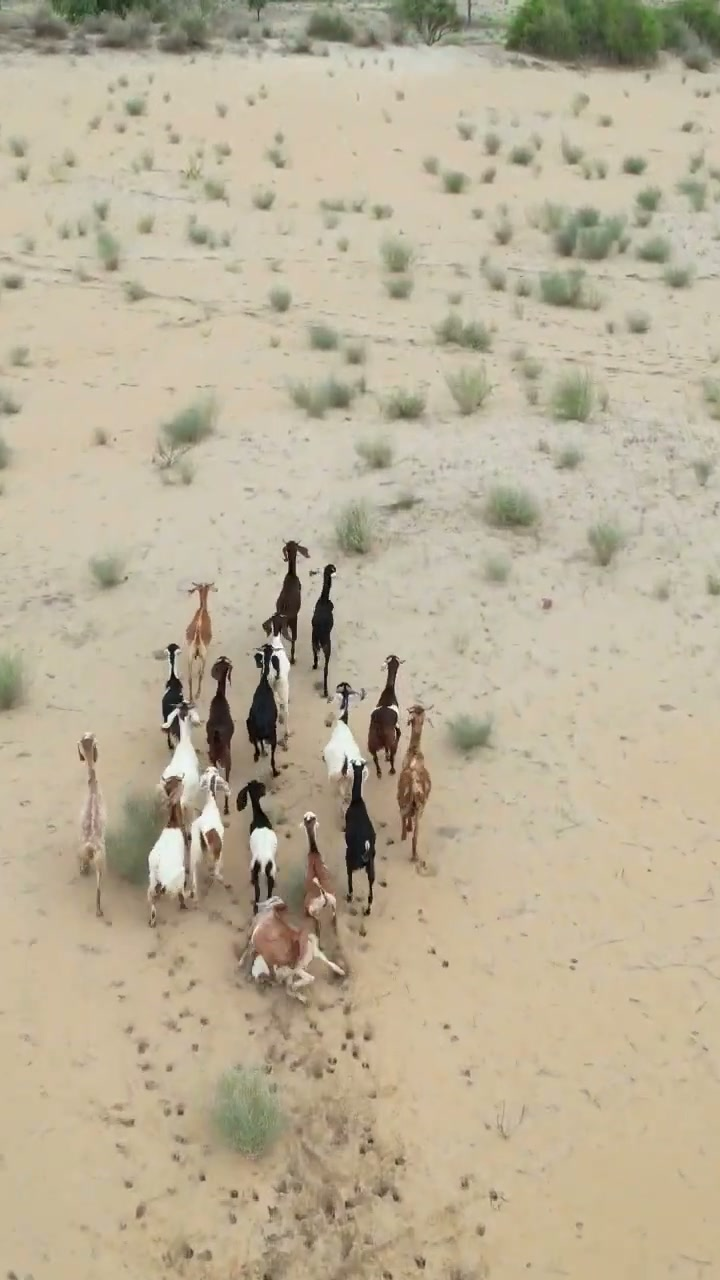animal_footprint: (88, 901, 503, 1279)
